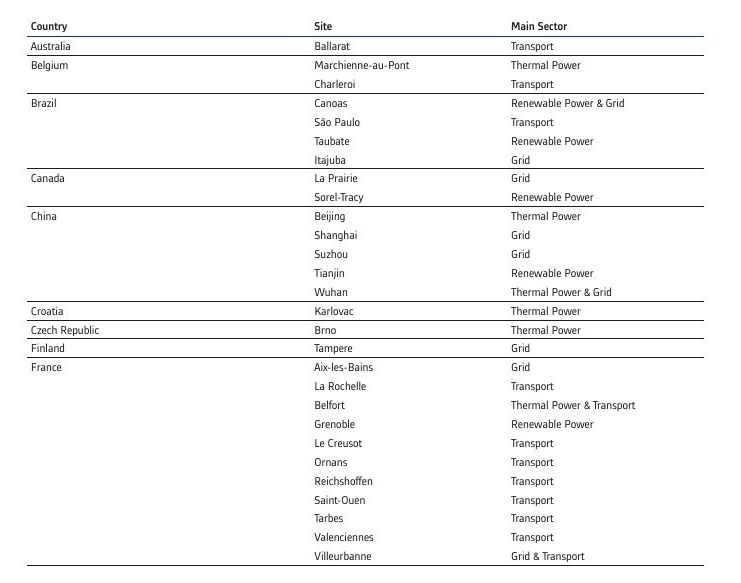table: (0, 0, 741, 583)
